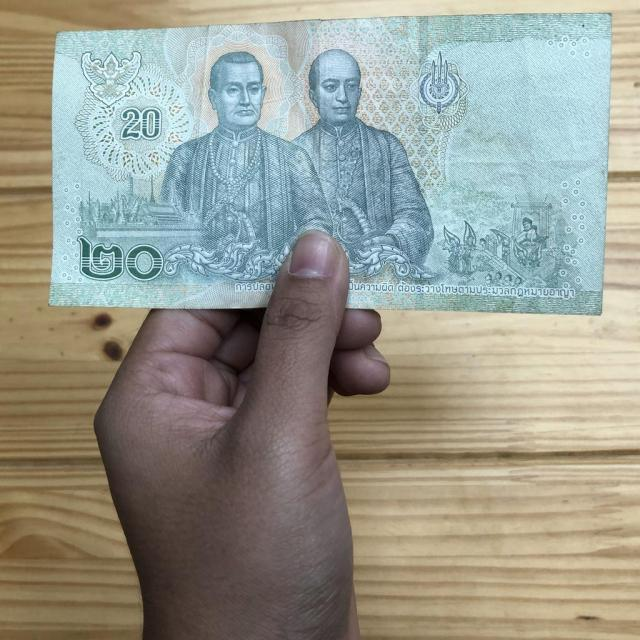THAI20: (51, 14, 611, 315)
